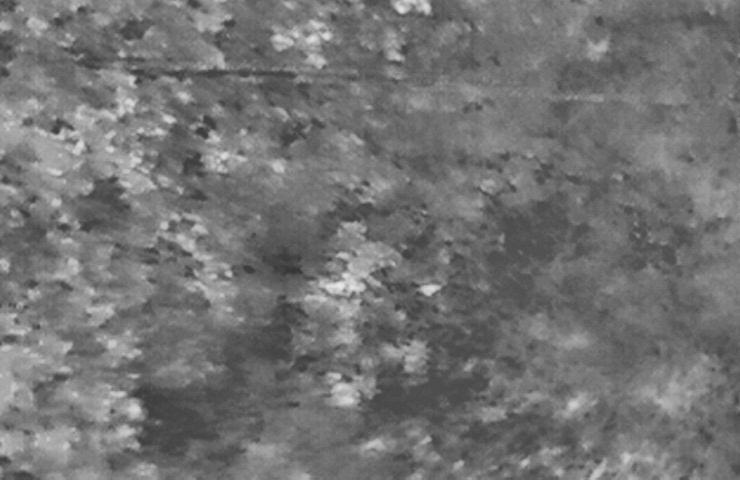landmines: (323, 263, 379, 322)
